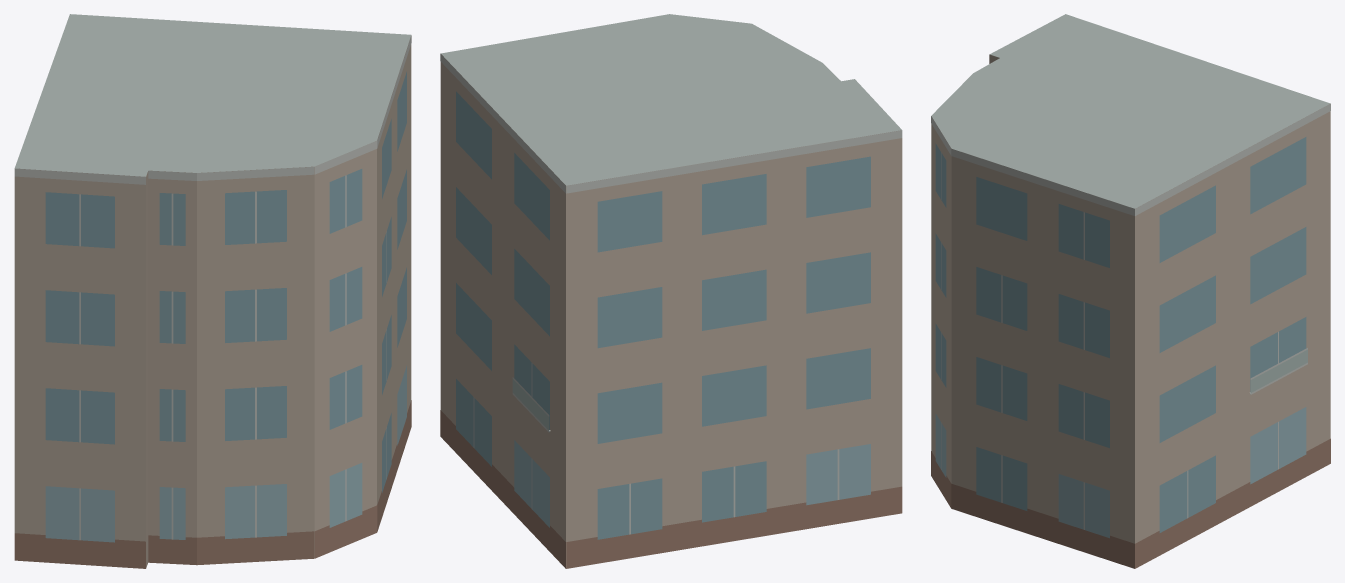
Rendered from survey-upis-32530254.glb.
3 views of the same model, side by side, from view 1: azimuth 30°, elevation 25°; view 2: azimuth 150°, elevation 25°; view 3: azimuth 270°, elevation 25° (orthographic). The views are drawn at different scales.
Parts seen in each view (by area): view 1: survey-upis-32530254.tmp; view 2: survey-upis-32530254.tmp; view 3: survey-upis-32530254.tmp.
Part boxes in pixels (bbox=[...]): survey-upis-32530254.tmp: bbox=[14, 14, 411, 568]; survey-upis-32530254.tmp: bbox=[440, 14, 902, 568]; survey-upis-32530254.tmp: bbox=[931, 14, 1330, 568].
Size of the model in its own units: 13.7 by 11.8 by 11.88.
